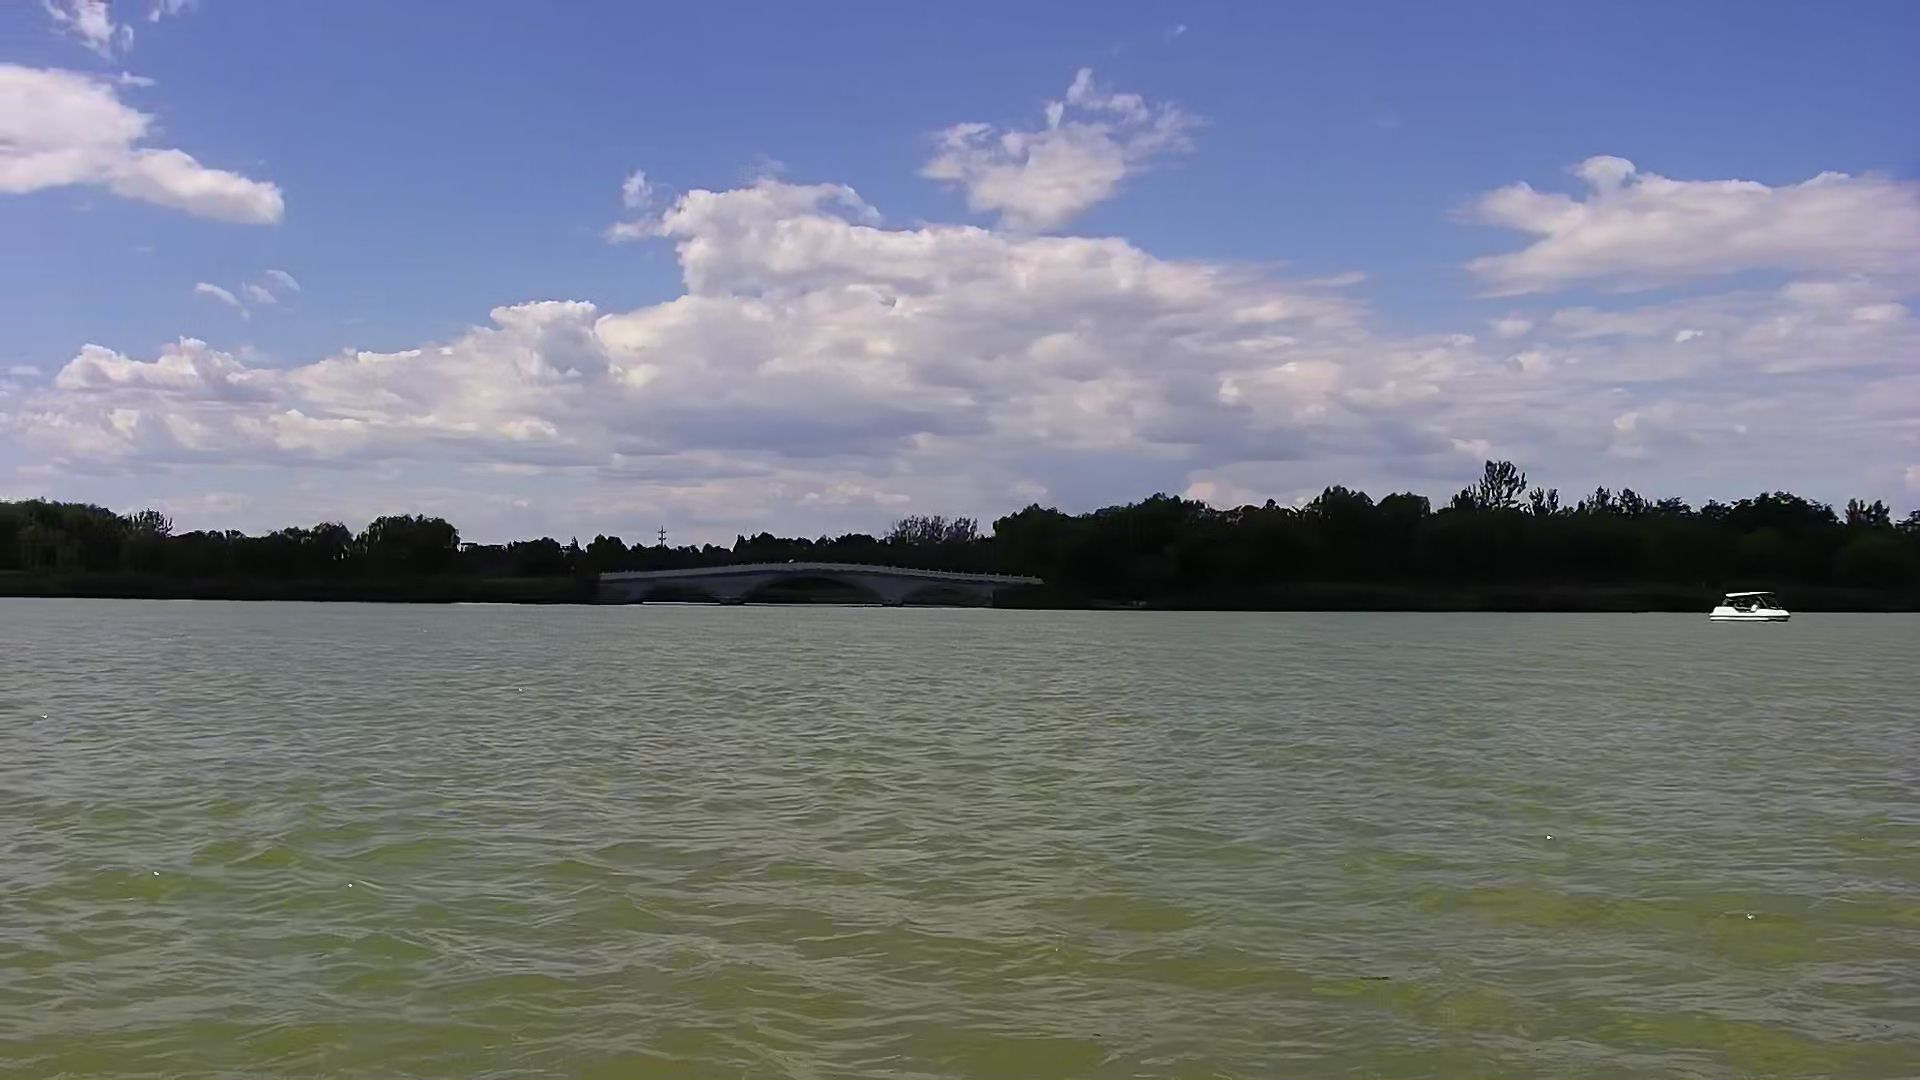boat: (1709, 584, 1788, 630)
bridge: (601, 556, 1040, 613)
